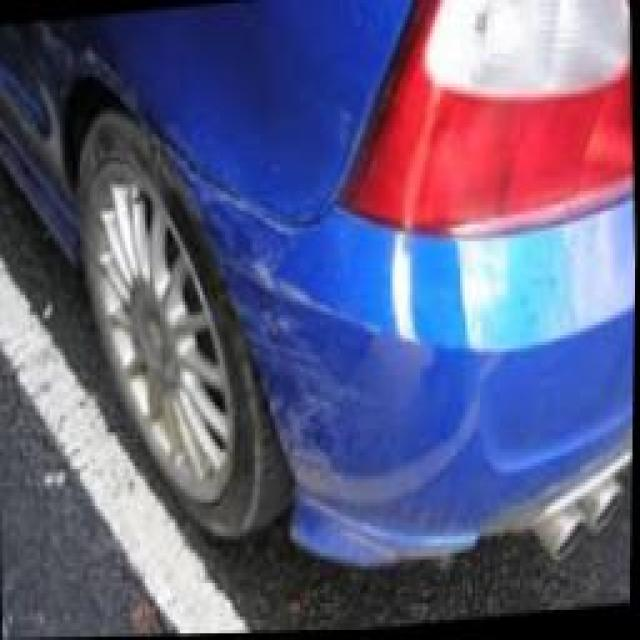Bumper: (168, 151, 396, 561)
